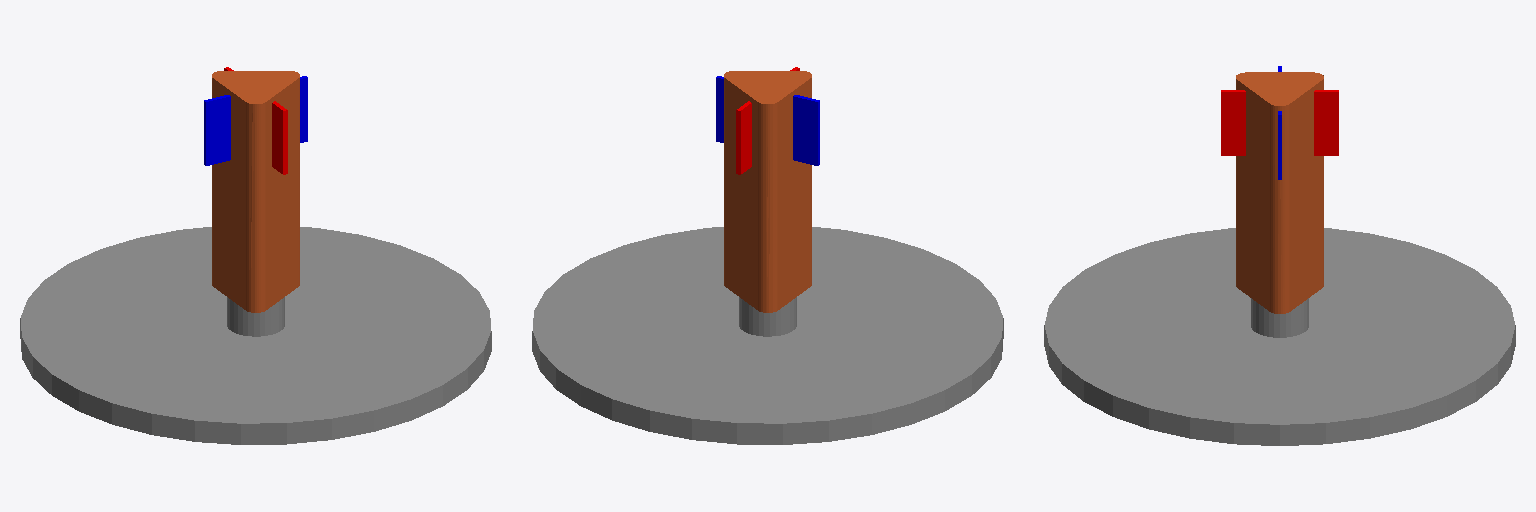
robot.urdf — screw_with_nut:
<?xml version="1.0"?>
<robot name="screw_with_nut">
  <!-- Base: Wide cylinder with hole -->
  <link name="base">
    <visual>
      <origin xyz="0 0 0" />
      <geometry>
        <cylinder radius="0.1" length="0.01" />
      </geometry>
      <material name="base_material">
        <color rgba="0.6 0.6 0.6 1" />
      </material>
    </visual>
    <collision>
      <origin xyz="0 0 0" />
      <geometry>
        <cylinder radius="0.1" length="0.01" />
      </geometry>
    </collision>
    <inertial>
      <mass value="10.0" />
      <origin xyz="0 0 0" />
      <inertia ixx="0.02508" ixy="0.0" ixz="0.0" iyy="0.02508" iyz="0.0" izz="0.05" />
    </inertial>
  </link>

  <!-- Bolt rigidly attached to base -->
  <link name="bolt">
    <visual>
      <origin xyz="0 0 0.05" />
      <geometry>
        <cylinder radius="0.0125" length="0.1" />
      </geometry>
      <material name="bolt_material">
        <color rgba="0.6 0.6 0.6 1" />
      </material>
    </visual>
    <collision>
      <origin xyz="0 0 0.05" />
      <geometry>
        <cylinder radius="0.0125" length="0.1" />
      </geometry>
    </collision>
    <inertial>
      <mass value="0.05" />
      <origin xyz="0 0 0.05" />
      <inertia ixx="0.0000420" ixy="0.0" ixz="0.0" iyy="0.0000420" iyz="0.0" izz="0.000000625" />
    </inertial>
  </link>

  <!-- Nut: triangular prism that will rotate around the screw -->
  <link name="nut">
    <visual>
      <origin xyz="0 0 -0.08"/>
      <geometry>
        <mesh filename="../meshes/tri.stl" scale="1.0 1.0 6.5"/>
      </geometry>
      <material name="nut_material">
        <color rgba="0.8 0.4 0.2 1"/>
      </material>
    </visual>
    <collision>
      <origin xyz="0 0 -0.08"/>
      <geometry>
        <mesh filename="../meshes/tri.stl" scale="1.0 1.0 6.5"/>
      </geometry>
    </collision>
    <inertial>
      <mass value="0.05"/>
      <origin xyz="0 0 0"/>
      <inertia ixx="0.000005157" iyy="0.000005157" izz="0.000008438" ixy="0" ixz="0" iyz="0"/>
    </inertial>
    <!-- Red stripe on nut -->
    <visual>
      <origin xyz="0 0 0" rpy="0 0 0"/>
      <geometry>
        <!-- thin box wrapping around the cylinder -->
        <box size="0.002 0.05 0.03"/>
      </geometry>
      <material name="stripe_red">
        <color rgba="1 0 0 1"/>
      </material>
    </visual>

    <!-- Blue stripe on nut -->
    <visual>
      <origin xyz="0 0 0" rpy="0 0 1.5708"/>
      <geometry>
        <box size="0.002 0.05 0.03"/>
      </geometry>
      <material name="stripe_blue">
        <color rgba="0 0 1 1"/>
      </material>
    </visual>
  </link>

  <!-- Fixed joint -->
  <joint name="base_screw_fixed" type="fixed">
    <parent link="base" />
    <child  link="bolt" />
    <origin xyz="0 0 0" rpy="0 0 0" />
  </joint>

  <!-- Revolute joint -->
  <joint name="nut_joint" type="revolute">
    <parent link="bolt" />
    <child  link="nut" />
    <origin xyz="0 0 0.1" rpy="0 0 0"/>
    <axis  xyz="0 0 -1" />
    <dynamics friction="0.2"/>
    <limit lower="0.0" upper="628.3185" effort="2.0" velocity="6.2832" /> <!-- 100 rotations -->
  </joint>
</robot>

--- What the picture shows (computed from the rendered views, not written in the file) ---
The picture shows the robot from 3 angles, left to right: view 1: azimuth 30°, elevation 25°; view 2: azimuth 150°, elevation 25°; view 3: azimuth 270°, elevation 25°; orthographic projection.
Model screw_with_nut with 3 links and 2 joints (1 revolute, 1 fixed), rooted at base, posed every joint at zero.
Links seen in each view (by area): view 1: base, nut, bolt; view 2: base, nut, bolt; view 3: base, nut, bolt.
Boxes of the visible links, box(x1,y1,x2,y2) form: base: box(20, 227, 491, 444); nut: box(204, 67, 307, 312); bolt: box(227, 297, 284, 336); base: box(532, 227, 1003, 444); nut: box(716, 67, 819, 312); bolt: box(739, 297, 796, 336); base: box(1044, 228, 1515, 445); nut: box(1221, 66, 1338, 313); bolt: box(1251, 298, 1308, 337).
Bounding box of the posed robot: 0.2 × 0.2 × 0.1225 m (x, y, z).
1 mesh visuals loaded from 1 distinct referenced files (1 binary STL).
